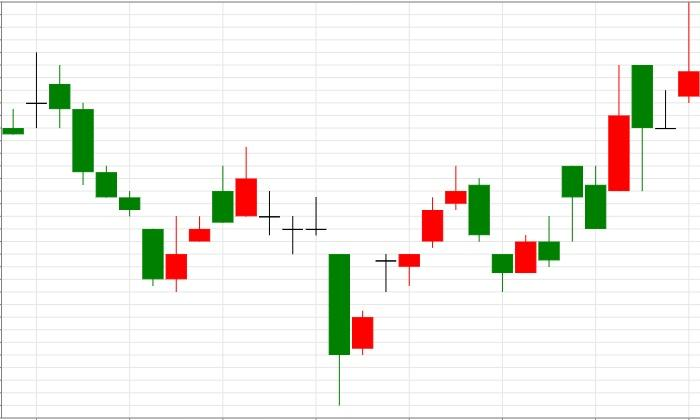inverse_hammer_rise: (26, 51, 188, 292)
shooting_star_fall: (515, 3, 700, 273)
